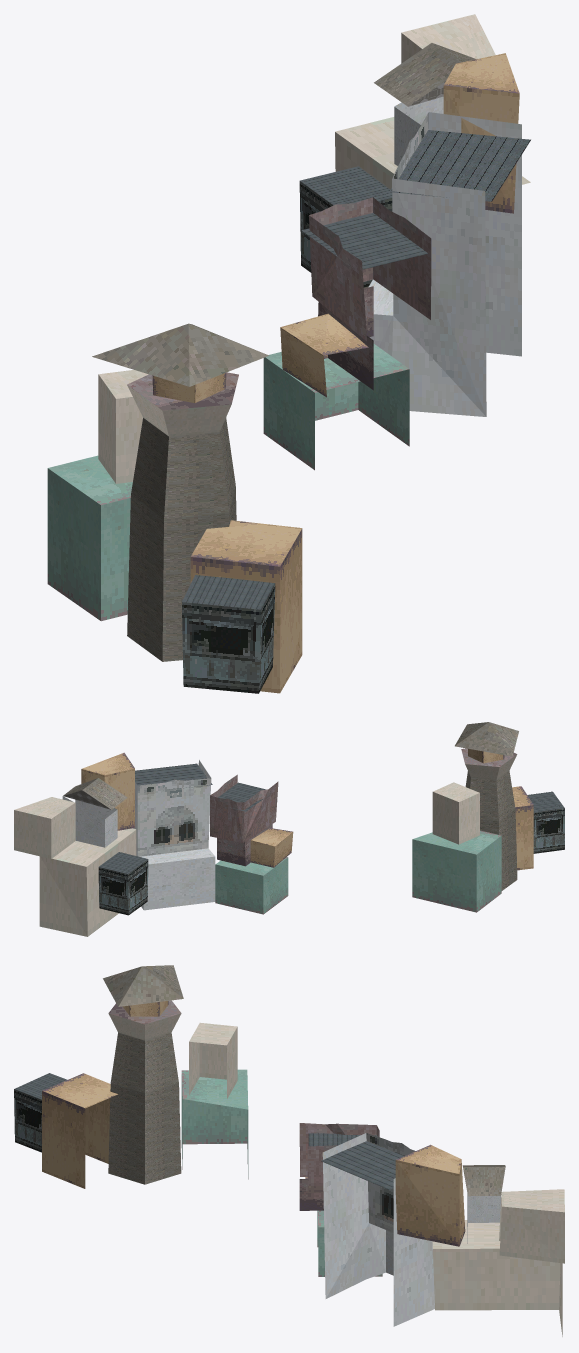
Rendered from lodateland06_lvs.obj.
3 renders of one model, top to bottom at view 1: azimuth 30°, elevation 25°; view 2: azimuth 150°, elevation 25°; view 3: azimuth 270°, elevation 25°, orthographic. The views are drawn at different scales.
Visible parts, largest first — view 1: lodateland06_lvS; view 2: lodateland06_lvS; view 3: lodateland06_lvS.
Boxes of the visible parts, x1,y1,x2,y2 form: lodateland06_lvS: (47,14,530,693); lodateland06_lvS: (14,722,564,936); lodateland06_lvS: (14,965,564,1336).
Size of the model in its own units: 35.59 by 15.45 by 38.17.
Materials: 6 (6 with a texture image).
